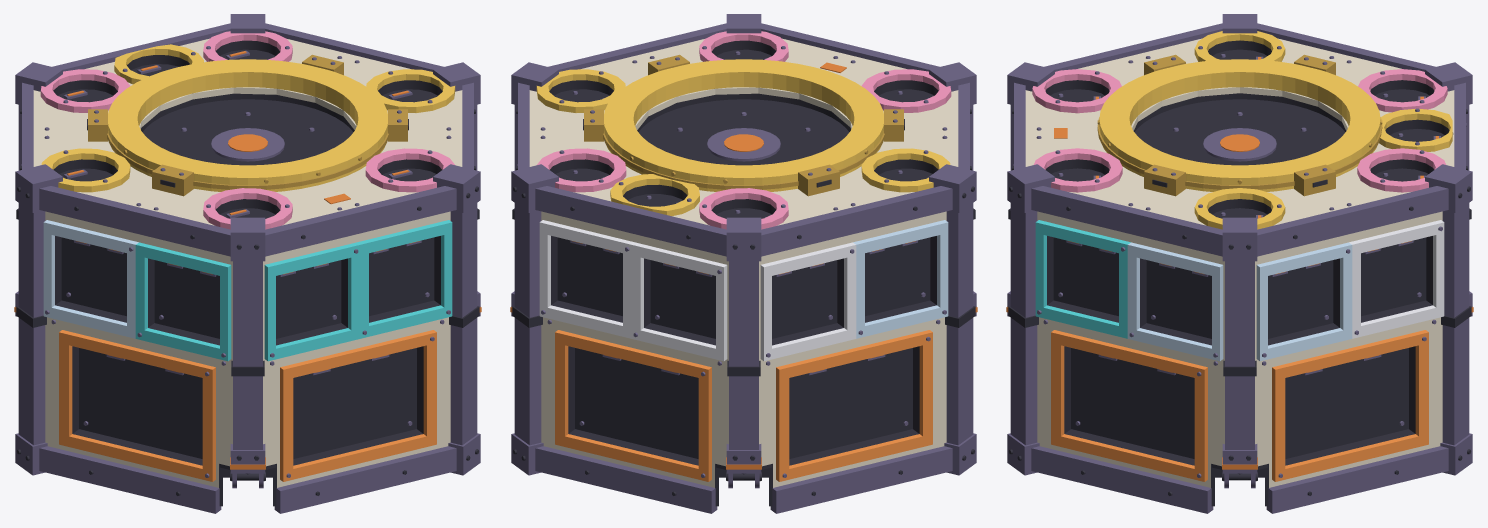
The model's file is frame_asteroid.glb.
3 views of the same model, side by side, from view 1: azimuth 30°, elevation 25°; view 2: azimuth 150°, elevation 25°; view 3: azimuth 270°, elevation 25° (orthographic).
Parts seen in each view (by area): view 1: corner_posts, mounting_bays, hull_panels, capsule_ring; view 2: corner_posts, mounting_bays, hull_panels, capsule_ring; view 3: corner_posts, mounting_bays, hull_panels, capsule_ring.
Part boxes in pixels (x1,y1,x2,y2): corner_posts: (14,14,481,513); mounting_bays: (40,31,455,481); hull_panels: (33,38,462,487); capsule_ring: (88,54,407,196); corner_posts: (510,14,977,513); mounting_bays: (536,31,951,481); hull_panels: (529,38,958,487); capsule_ring: (584,54,903,196); corner_posts: (1006,14,1473,513); mounting_bays: (1032,31,1452,481); hull_panels: (1025,38,1454,487); capsule_ring: (1097,54,1382,196).
Bounding box in the file's own units: 1.56 × 0.9859 × 1.39.
